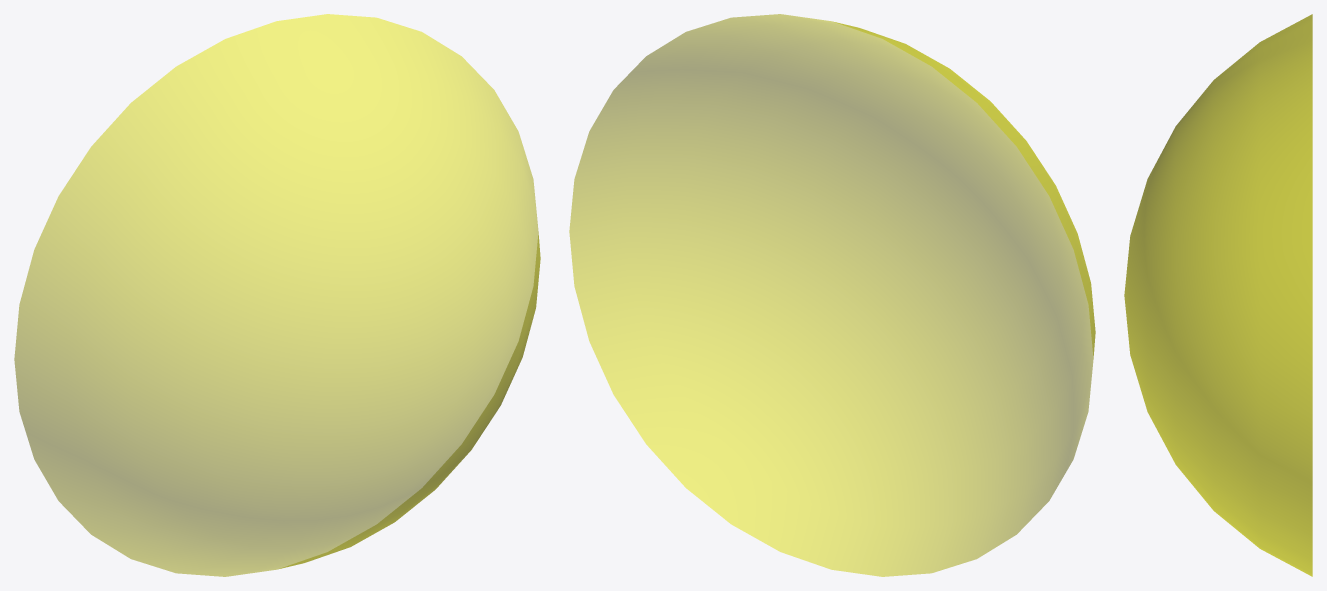
Rendered from Barrier.fbx.
3 renders of one model, left to right at view 1: azimuth 30°, elevation 25°; view 2: azimuth 150°, elevation 25°; view 3: azimuth 270°, elevation 25°, orthographic. The views are drawn at different scales.
Visible parts, largest first — view 1: Sphere; view 2: Sphere; view 3: Sphere.
Part boxes in pixels (<box>): Sphere: <box>14,14,540,576</box>; Sphere: <box>569,14,1095,576</box>; Sphere: <box>1124,14,1312,576</box>.
Size of the model in its own units: 277 by 277 by 92.6.
